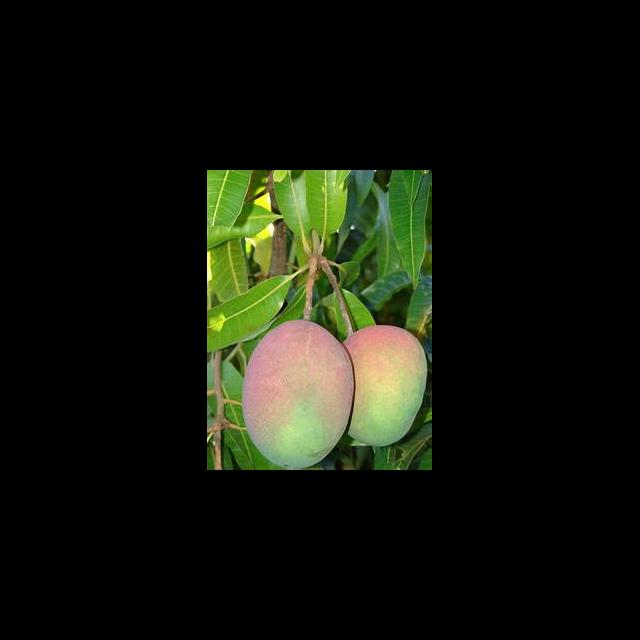mango: (241, 318, 346, 469), (342, 325, 430, 449)
